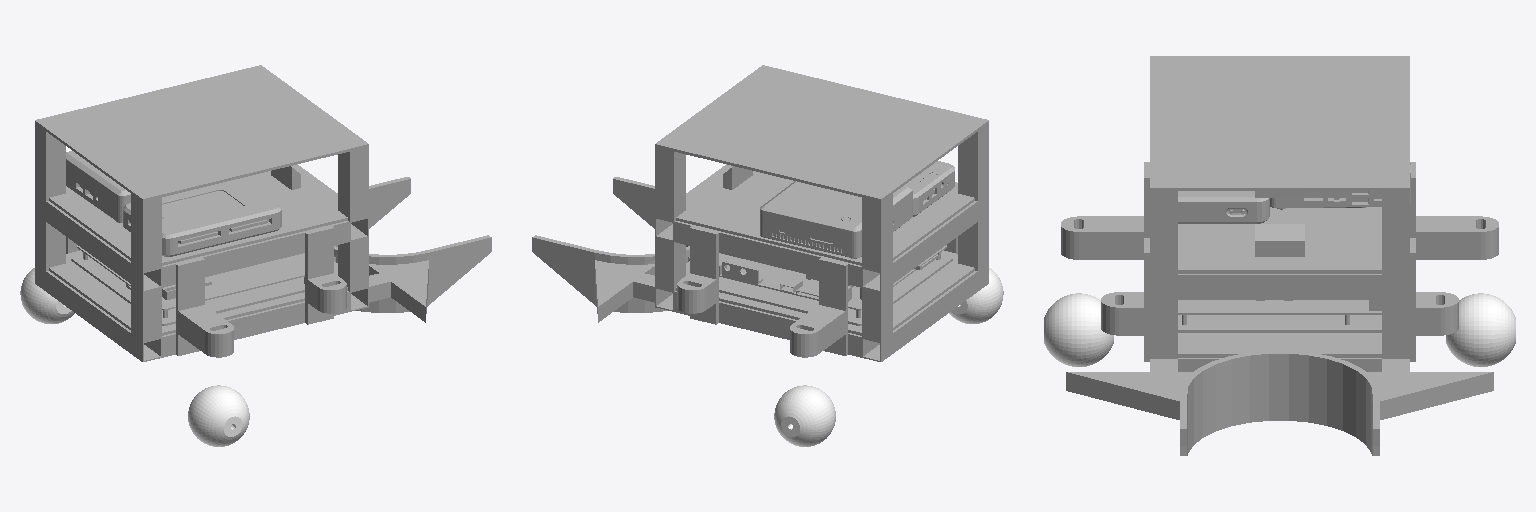
robot.urdf — lide:
<?xml version="1.0" encoding="utf-8"?>
<!-- This URDF was automatically created by SolidWorks to URDF Exporter! Originally created by [author] ([email redacted]) 
     Commit Version: 1.5.1-0-g916b5db  Build Version: 1.5.7152.31018
     For more information, please see http://wiki.ros.org/sw_urdf_exporter -->
<robot
  name="lide">
  <link
    name="base_link">
    <inertial>
      <origin
        xyz="-0.12645 0.10688 0.071313"
        rpy="0 0 0" />
      <mass
        value="2.9503" />
      <inertia
        ixx="0.0063474"
        ixy="-6.7175E-07"
        ixz="-1.1759E-05"
        iyy="0.0056315"
        iyz="-1.54E-07"
        izz="0.011263" />
    </inertial>
    <visual>
      <origin
        xyz="0 0 0"
        rpy="0 0 0" />
      <geometry>
        <mesh
          filename="package://lide/meshes/base_link.STL" />
      </geometry>
      <material
        name="">
        <color
          rgba="0.75294 0.75294 0.75294 1" />
      </material>
    </visual>
    <collision>
      <origin
        xyz="0 0 0"
        rpy="0 0 0" />
      <geometry>
        <mesh
          filename="package://lide/meshes/base_link.STL" />
      </geometry>
    </collision>
  </link>
  <link
    name="LFS">
    <inertial>
      <origin
        xyz="0.04556 0.0083094 0.0029762"
        rpy="0 0 0" />
      <mass
        value="0.072793" />
      <inertia
        ixx="2.2093E-05"
        ixy="-1.6485E-08"
        ixz="-1.5645E-07"
        iyy="1.6263E-05"
        iyz="2.9641E-09"
        izz="1.8084E-05" />
    </inertial>
    <visual>
      <origin
        xyz="0 0 0"
        rpy="0 0 0" />
      <geometry>
        <mesh
          filename="package://lide/meshes/LFS.STL" />
      </geometry>
      <material
        name="">
        <color
          rgba="0.75294 0.75294 0.75294 1" />
      </material>
    </visual>
    <collision>
      <origin
        xyz="0 0 0"
        rpy="0 0 0" />
      <geometry>
        <mesh
          filename="package://lide/meshes/LFS.STL" />
      </geometry>
    </collision>
  </link>
  <joint
    name="LFS"
    type="fixed">
    <origin
      xyz="-0.059044 0.1894 -0.014503"
      rpy="1.5708 0 1.5708" />
    <parent
      link="base_link" />
    <child
      link="LFS" />
    <axis
      xyz="0 0 0" />
  </joint>
  <link
    name="LFW">
    <inertial>
      <origin
        xyz="0.015 0 0"
        rpy="0 0 0" />
      <mass
        value="0.289786121963991" />
      <inertia
        ixx="0.000439831942427159"
        ixy="-4.7261907244405E-23"
        ixz="-6.92511400711663E-21"
        iyy="0.000241649930360879"
        iyz="-8.470329472543E-22"
        izz="0.000241649930360879" />
    </inertial>
    <visual>
      <origin
        xyz="0 0 0"
        rpy="0 0 0" />
      <geometry>
        <mesh
          filename="package://lide/meshes/LFW.STL" />
      </geometry>
      <material
        name="">
        <color
          rgba="1 1 1 1" />
      </material>
    </visual>
    <collision>
      <origin
        xyz="0.015 0 0"
        rpy="0 -1.5708 0" />
      <geometry>
        <cylinder length="0.03" radius="0.055"/>
      </geometry>
    </collision>
  </link>
  <joint
    name="LFW"
    type="continuous">
    <origin
      xyz="0.063346 -0.006798 0.015044"
      rpy="-1.6264 0 0" />
    <parent
      link="LFS" />
    <child
      link="LFW" />
    <axis
      xyz="1 0 0" />
    <limit
      effort="3.1"
      velocity="7" />
  </joint>
  <link
    name="RFS">
    <inertial>
      <origin
        xyz="-0.019183 -0.0090093 0.052006"
        rpy="0 0 0" />
      <mass
        value="0.072793" />
      <inertia
        ixx="2.2093E-05"
        ixy="-1.6485E-08"
        ixz="1.5645E-07"
        iyy="1.6263E-05"
        iyz="-2.9641E-09"
        izz="1.8084E-05" />
    </inertial>
    <visual>
      <origin
        xyz="0 0 0"
        rpy="0 0 0" />
      <geometry>
        <mesh
          filename="package://lide/meshes/RFS.STL" />
      </geometry>
      <material
        name="">
        <color
          rgba="0.75294 0.75294 0.75294 1" />
      </material>
    </visual>
    <collision>
      <origin
        xyz="0 0 0"
        rpy="0 0 0" />
      <geometry>
        <mesh
          filename="package://lide/meshes/RFS.STL" />
      </geometry>
    </collision>
  </link>
  <joint
    name="RFS"
    type="fixed">
    <origin
      xyz="-0.10807 -0.0057812 0.0027844"
      rpy="1.5708 0 1.5708" />
    <parent
      link="base_link" />
    <child
      link="RFS" />
    <axis
      xyz="0 0 0" />
  </joint>
  <link
    name="RFW">
    <inertial>
      <origin
        xyz="-0.015 -3.4694E-18 0"
        rpy="0 0 0" />
      <mass
        value="0.28979" />
      <inertia
        ixx="0.00043983"
        ixy="-1.8734E-37"
        ixz="0"
        iyy="0.00024165"
        iyz="-1.9835E-37"
        izz="0.00024165" />
    </inertial>
    <visual>
      <origin
        xyz="0 0 0"
        rpy="0 0 0" />
      <geometry>
        <mesh
          filename="package://lide/meshes/RFW.STL" />
      </geometry>
      <material
        name="">
        <color
          rgba="1 1 1 1" />
      </material>
    </visual>
    <collision>
      <origin
        xyz="-0.015 0 0"
        rpy="0 -1.5708 0" />
      <geometry>
        <cylinder length="0.03" radius="0.055"/>
      </geometry>
    </collision>
  </link>
  <joint
    name="RFW"
    type="continuous">
    <origin
      xyz="-0.036969 -0.024084 0.064073"
      rpy="0 0 0" />
    <parent
      link="RFS" />
    <child
      link="RFW" />
    <axis
      xyz="1 0 0" />
    <limit
      effort="3.1"
      velocity="7" />
  </joint>
  <link
    name="LBS">
    <inertial>
      <origin
        xyz="-4.7988E-10 -0.023473 -1.1682E-09"
        rpy="0 0 0" />
      <mass
        value="0.083536" />
      <inertia
        ixx="7.7297E-05"
        ixy="-8.6048E-13"
        ixz="1.4059E-13"
        iyy="5.1382E-05"
        iyz="-5.0656E-12"
        izz="7.7395E-05" />
    </inertial>
    <visual>
      <origin
        xyz="0 0 0"
        rpy="0 0 0" />
      <geometry>
        <mesh
          filename="package://lide/meshes/LBS.STL" />
      </geometry>
      <material
        name="">
        <color
          rgba="0.89804 0.91765 0.92941 1" />
      </material>
    </visual>
    <collision>
      <origin
        xyz="0 0 0"
        rpy="0 0 0" />
      <geometry>
        <mesh
          filename="package://lide/meshes/LBS.STL" />
      </geometry>
    </collision>
  </link>
  <joint
    name="LBS"
    type="fixed">
    <origin
      xyz="-0.202 0.26775 0.0094377"
      rpy="1.5708 0 1.5708" />
    <parent
      link="base_link" />
    <child
      link="LBS" />
    <axis
      xyz="0 0 0" />
  </joint>
  <link
    name="LBW">
    <inertial>
      <origin
        xyz="0 0 0"
        rpy="0 0 0" />
      <mass
        value="0.11299" />
      <inertia
        ixx="4.0471E-05"
        ixy="-2.9147E-22"
        ixz="-2.4789E-22"
        iyy="4.1493E-05"
        iyz="-3.2611E-20"
        izz="4.0471E-05" />
    </inertial>
    <visual>
      <origin
        xyz="0 0 0"
        rpy="0 0 0" />
      <geometry>
        <mesh
          filename="package://lide/meshes/LBW.STL" />
      </geometry>
      <material
        name="">
        <color
          rgba="1 1 1 1" />
      </material>
    </visual>
    <collision>
      <origin
        xyz="0 0 0"
        rpy="0 0 0" />
      <geometry>
        <sphere radius="0.03"/>
      </geometry>
    </collision>
  </link>
  <joint
    name="LBW"
    type="fixed">
    <origin
      xyz="0 -0.055738 0"
      rpy="3.1416 0 1.5708" />
    <parent
      link="LBS" />
    <child
      link="LBW" />
    <axis
      xyz="0 0 0" />
  </joint>
  <link
    name="RBS">
    <inertial>
      <origin
        xyz="-4.7988E-10 -0.023473 -1.1682E-09"
        rpy="0 0 0" />
      <mass
        value="0.083536" />
      <inertia
        ixx="7.7297E-05"
        ixy="-8.6048E-13"
        ixz="1.4059E-13"
        iyy="5.1382E-05"
        iyz="-5.0656E-12"
        izz="7.7395E-05" />
    </inertial>
    <visual>
      <origin
        xyz="0 0 0"
        rpy="0 0 0" />
      <geometry>
        <mesh
          filename="package://lide/meshes/RBS.STL" />
      </geometry>
      <material
        name="">
        <color
          rgba="0.89804 0.91765 0.92941 1" />
      </material>
    </visual>
    <collision>
      <origin
        xyz="0 0 0"
        rpy="0 0 0" />
      <geometry>
        <mesh
          filename="package://lide/meshes/RBS.STL" />
      </geometry>
    </collision>
  </link>
  <joint
    name="RBS"
    type="fixed">
    <origin
      xyz="-0.202 -0.05775 0.0094377"
      rpy="1.5708 0 1.5708" />
    <parent
      link="base_link" />
    <child
      link="RBS" />
    <axis
      xyz="0 0 0" />
  </joint>
  <link
    name="RBW">
    <inertial>
      <origin
        xyz="0 0 0"
        rpy="0 0 0" />
      <mass
        value="0.11299" />
      <inertia
        ixx="4.0471E-05"
        ixy="5.401E-22"
        ixz="-1.008E-22"
        iyy="4.1493E-05"
        iyz="-3.2617E-20"
        izz="4.0471E-05" />
    </inertial>
    <visual>
      <origin
        xyz="0 0 0"
        rpy="0 0 0" />
      <geometry>
        <mesh
          filename="package://lide/meshes/RBW.STL" />
      </geometry>
      <material
        name="">
        <color
          rgba="1 1 1 1" />
      </material>
    </visual>
    <collision>
      <origin
        xyz="0 0 0"
        rpy="0 0 0" />
      <geometry>
        <sphere radius="0.03"/>
      </geometry>
    </collision>
  </link>
  <joint
    name="RBW"
    type="fixed">
    <origin
      xyz="0 -0.055738 0"
      rpy="0 0 -1.5708" />
    <parent
      link="RBS" />
    <child
      link="RBW" />
    <axis
      xyz="0 0 0" />
  </joint>
  <link
    name="fcam">
    <inertial>
      <origin
        xyz="-0.011554 -2.6443E-06 0.0012903"
        rpy="0 0 0" />
      <mass
        value="0.043612" />
      <inertia
        ixx="2.3571E-05"
        ixy="-1.0184E-09"
        ixz="2.1759E-08"
        iyy="4.2948E-06"
        iyz="-8.8502E-10"
        izz="2.2106E-05" />
    </inertial>
    <visual>
      <origin
        xyz="0 0 0"
        rpy="0 0 0" />
      <geometry>
        <mesh
          filename="package://lide/meshes/fcam.STL" />
      </geometry>
      <material
        name="">
        <color
          rgba="0.79216 0.81961 0.93333 1" />
      </material>
    </visual>
    <collision>
      <origin
        xyz="0 0 0"
        rpy="0 0 0" />
      <geometry>
        <mesh
          filename="package://lide/meshes/fcam.STL" />
      </geometry>
    </collision>
  </link>
  <joint
    name="fcam"
    type="fixed">
    <origin
      xyz="-0.0038823 0.105 0.15182"
      rpy="0 0.2618 0" />
    <parent
      link="base_link" />
    <child
      link="fcam" />
    <axis
      xyz="0 0 0" />
  </joint>
  <link
    name="bcam">
    <inertial>
      <origin
        xyz="-0.020103 -2.6435E-06 -0.0072587"
        rpy="0 0 0" />
      <mass
        value="0.043612" />
      <inertia
        ixx="2.3571E-05"
        ixy="-1.0183E-09"
        ixz="2.1758E-08"
        iyy="4.2948E-06"
        iyz="-8.8548E-10"
        izz="2.2106E-05" />
    </inertial>
    <visual>
      <origin
        xyz="0 0 0"
        rpy="0 0 0" />
      <geometry>
        <mesh
          filename="package://lide/meshes/bcam.STL" />
      </geometry>
      <material
        name="">
        <color
          rgba="0.79216 0.81961 0.93333 1" />
      </material>
    </visual>
    <collision>
      <origin
        xyz="0 0 0"
        rpy="0 0 0" />
      <geometry>
        <mesh
          filename="package://lide/meshes/bcam.STL" />
      </geometry>
    </collision>
  </link>
  <joint
    name="bcam"
    type="fixed">
    <origin
      xyz="0 0.105 0.11323"
      rpy="0 0.7854 0" />
    <parent
      link="base_link" />
    <child
      link="bcam" />
    <axis
      xyz="0 0 0" />
  </joint>
  <link
    name="Lidar">
    <inertial>
      <origin
        xyz="0.0135233595886409 0.000461955982206302 -0.028764885495051"
        rpy="0 0 0" />
      <mass
        value="0.0730845717569496" />
      <inertia
        ixx="1.95808757419765E-05"
        ixy="-1.03933585736234E-07"
        ixz="-4.28391168396099E-07"
        iyy="2.41250079666672E-05"
        iyz="9.42710206434161E-09"
        izz="4.14184516368183E-05" />
    </inertial>
    <visual>
      <origin
        xyz="0 0 0"
        rpy="0 0 0" />
      <geometry>
        <mesh
          filename="package://lide/meshes/Lidar.STL" />
      </geometry>
      <material
        name="">
        <color
          rgba="0.792156862745098 0.819607843137255 0.933333333333333 1" />
      </material>
    </visual>
    <collision>
      <origin
        xyz="0 0 0"
        rpy="0 0 0" />
      <geometry>
        <mesh
          filename="package://lide/meshes/Lidar.STL" />
      </geometry>
    </collision>
  </link>
  <joint
    name="Lidar"
    type="fixed">
    <origin
      xyz="-0.19458 0.10401 0.2285"
      rpy="0 0 0" />
    <parent
      link="base_link" />
    <child
      link="Lidar" />
    <axis
      xyz="0 0 0" />
  </joint>
  <link
    name="imu_link">
    <inertial>
      <origin
        xyz="0 0 0"
        rpy="0 0 0" />
      <mass
        value="0" />
      <inertia
        ixx="0"
        ixy="0"
        ixz="0"
        iyy="0"
        iyz="0"
        izz="0" />
    </inertial>
    <visual>
      <origin
        xyz="0 0 0"
        rpy="0 0 0" />
      <geometry>
        <mesh
          filename="package://lide/meshes/imu_link.STL" />
      </geometry>
      <material
        name="">
        <color
          rgba="1 1 1 1" />
      </material>
    </visual>
    <collision>
      <origin
        xyz="0 0 0"
        rpy="0 0 0" />
      <geometry>
        <mesh
          filename="package://lide/meshes/imu_link.STL" />
      </geometry>
    </collision>
  </link>
  <joint
    name="imu_link"
    type="fixed">
    <origin
      xyz="-0.044 0.105 0.177"
      rpy="0 0 0" />
    <parent
      link="base_link" />
    <child
      link="imu_link" />
    <axis
      xyz="0 0 0" />
  </joint>
</robot>

--- What the picture shows (computed from the rendered views, not written in the file) ---
The picture shows the robot from 3 angles, left to right: view 1: azimuth 30°, elevation 25°; view 2: azimuth 150°, elevation 25°; view 3: azimuth 270°, elevation 25°; orthographic projection.
Robot: lide — 13 links, 12 joints (2 continuous, 10 fixed); root link base_link; default pose: every joint at zero.
Links seen in each view (by area): view 1: base_link, RBW, LBW; view 2: base_link, LBW, RBW; view 3: base_link, LBW, RBW.
Boxes of the visible links, x1,y1,x2,y2 form: base_link: (35,65,491,361); RBW: (188,385,249,446); LBW: (20,268,74,323); base_link: (532,65,988,361); LBW: (774,385,835,446); RBW: (949,268,1003,323); base_link: (1061,56,1498,455); LBW: (1446,293,1515,366); RBW: (1044,293,1113,366).
Size in the robot's own frame: 0.405 by 0.3815 by 0.2512 metres.
Meshes: 13 distinct files referenced, 3 mesh visuals loaded (3 binary STL); not drawn: 10 (reference not matched to a file when rendering).